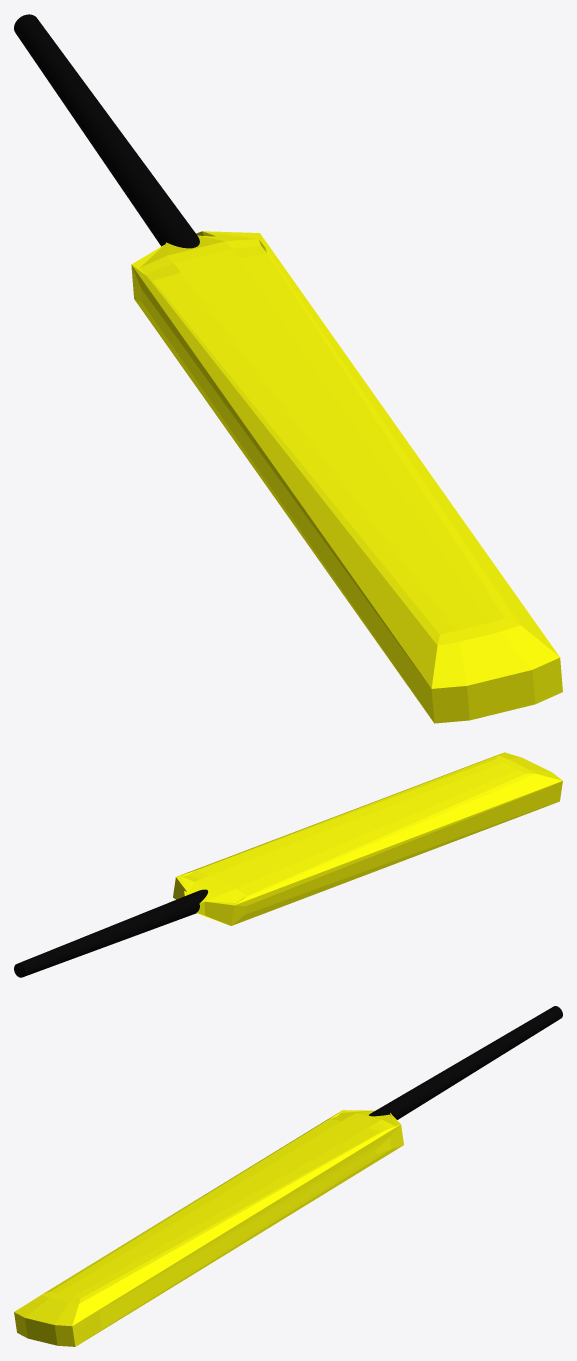
Rendered from bat.glb.
3 views of the same model, one above another, from view 1: azimuth 30°, elevation 25°; view 2: azimuth 150°, elevation 25°; view 3: azimuth 330°, elevation 25° (orthographic). The views are drawn at different scales.
Visible parts, largest first — view 1: Bat, Handle; view 2: Bat, Handle; view 3: Bat, Handle.
Boxes of the visible parts, <box> form: Bat: <box>131,231,562,723</box>; Handle: <box>14,14,199,248</box>; Bat: <box>173,752,562,925</box>; Handle: <box>14,889,207,977</box>; Bat: <box>14,1110,403,1346</box>; Handle: <box>369,1006,562,1119</box>.
Bounding box in the file's own units: 4.86 × 2.33 × 20.41.
